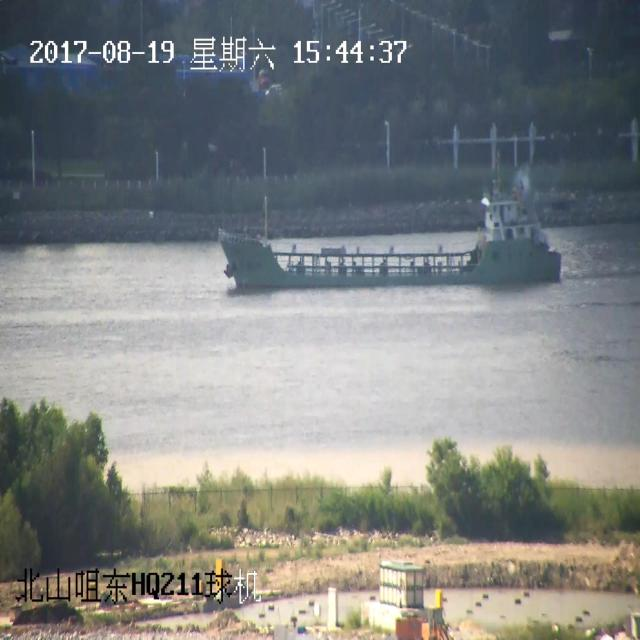houseboat: (208, 148, 564, 296)
